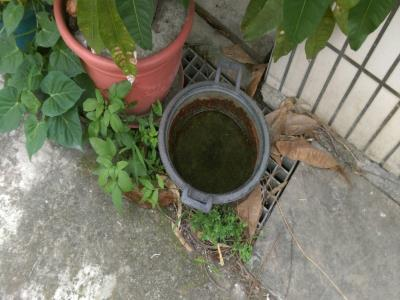bowl: (155, 76, 274, 212)
